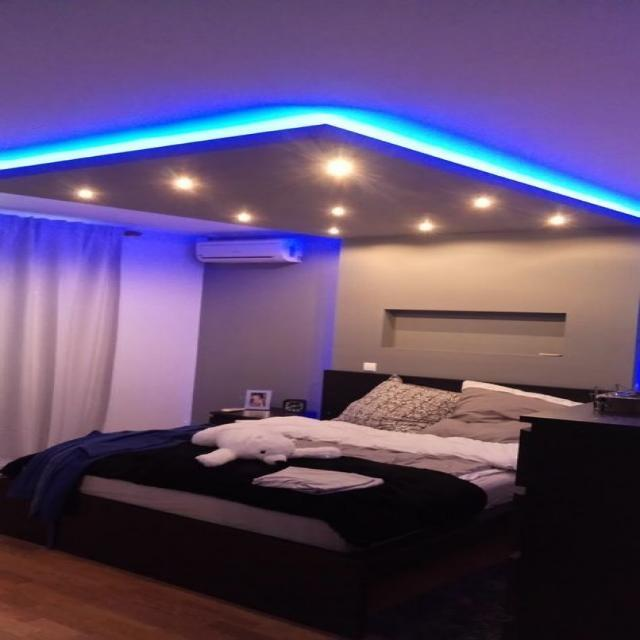AC: (195, 236, 302, 266)
